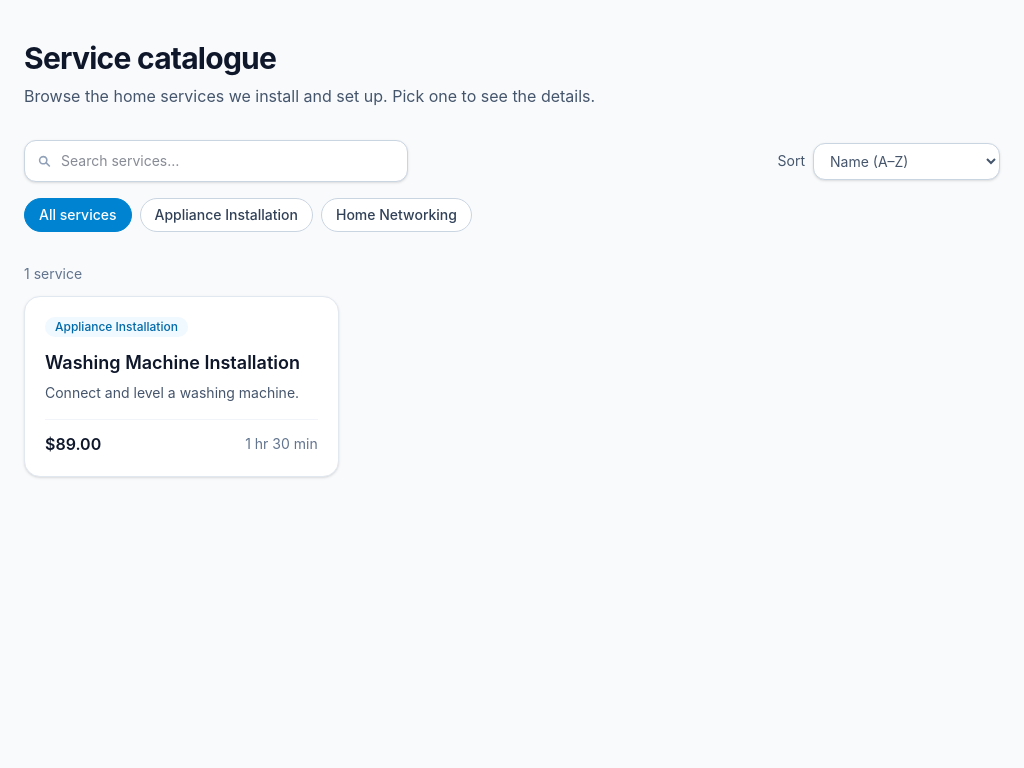
Test: CataloguePage › navigates to the service detail page
Click the link "Washing Machine Installation" at (181, 386), box left=24, top=296, right=339, bottom=477
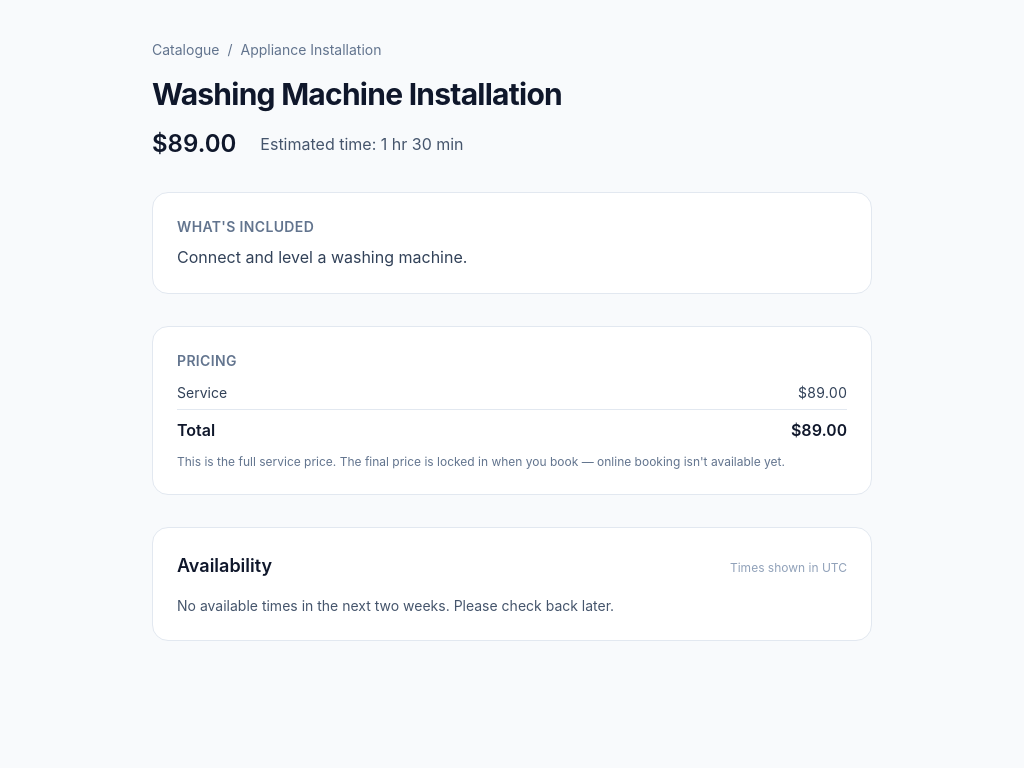
Expected: the heading "What's included" is shown, left=177, top=218, right=314, bottom=235
Expected: the heading "Availability" is shown, left=177, top=552, right=272, bottom=580
